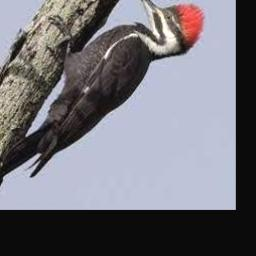Woodpecker: (0, 0, 205, 192)
